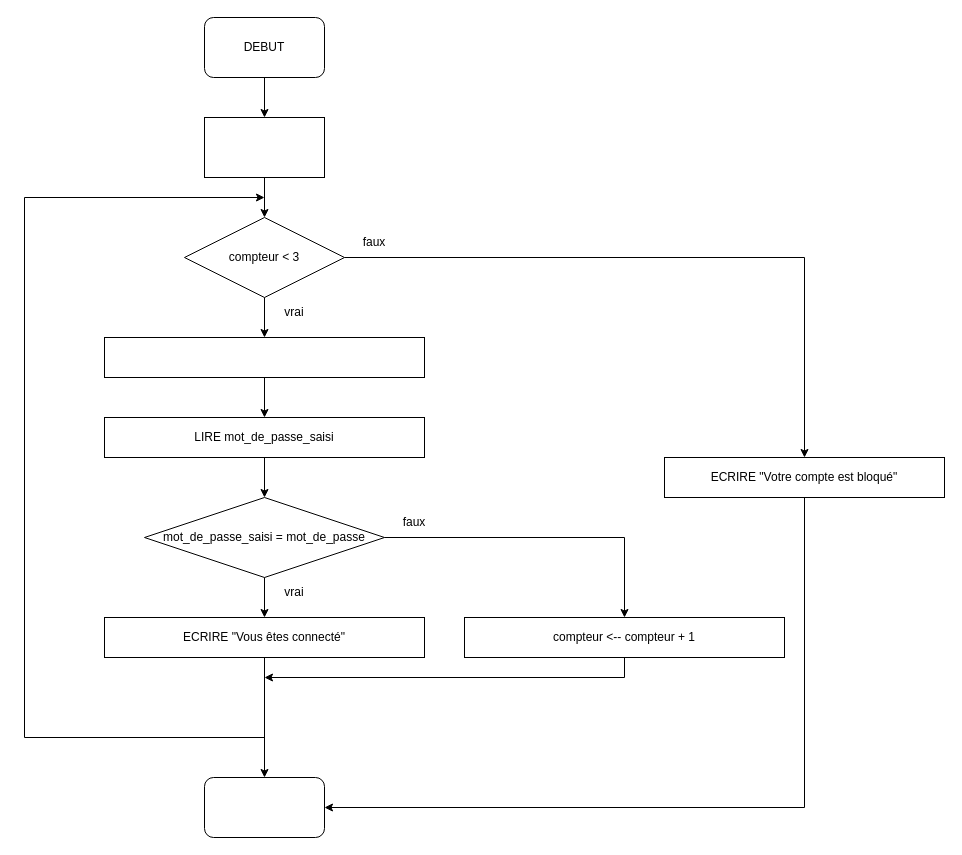
This 962x855 diagram has some shape labels left out. Here are the shapes that lost their labels. From the top down, the box of each, then its label:
(204, 116, 324, 178): i <-- 0
(104, 336, 424, 378): ECRIRE "Veuillez saisir votre mot de passe : "
(204, 776, 324, 838): FIN
